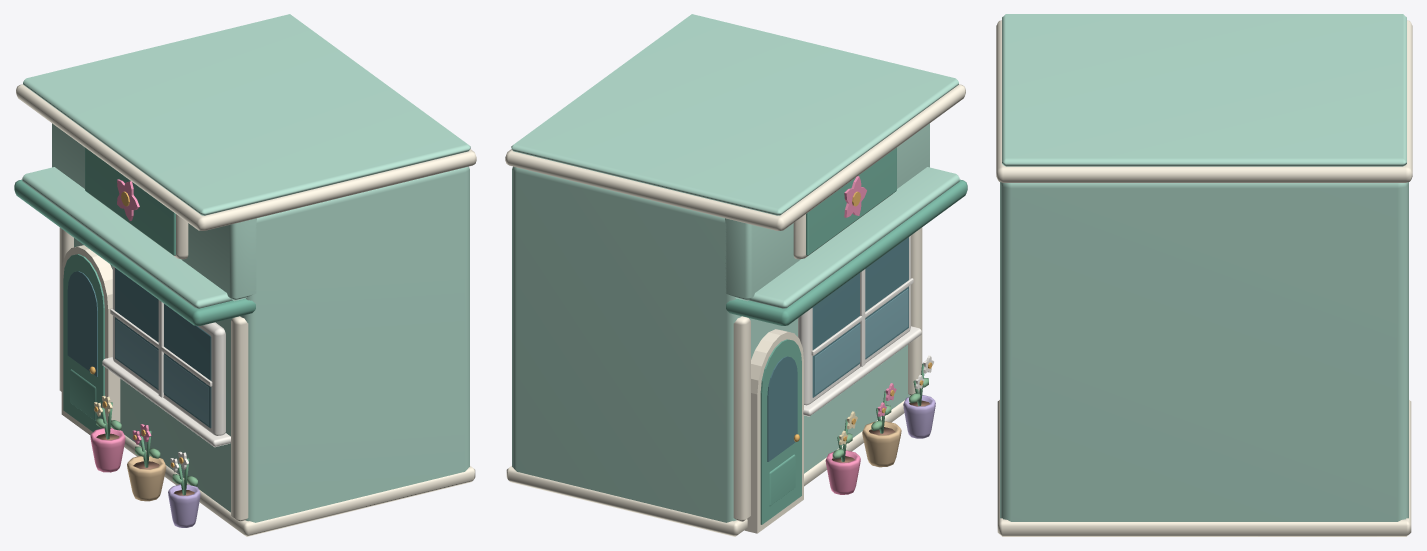
Rendered from town_flower.glb.
The picture shows the model from 3 angles, left to right: view 1: azimuth 30°, elevation 25°; view 2: azimuth 150°, elevation 25°; view 3: azimuth 270°, elevation 25°; orthographic projection. The views are drawn at different scales.
Parts seen in each view (by area): view 1: Shell, Roof, Facade, Canopy, Sign, FlowerPot_2, FlowerPot_1, FlowerPot_3; view 2: Shell, Roof, Facade, Canopy, Sign, FlowerPot_2, FlowerPot_1, FlowerPot_3; view 3: Shell, Roof.
Boxes of the visible parts, left/top/right/bottom form: Shell: left=52, top=123, right=475, bottom=536; Roof: left=16, top=14, right=476, bottom=230; Facade: left=59, top=227, right=248, bottom=521; Canopy: left=14, top=167, right=255, bottom=325; Sign: left=85, top=147, right=188, bottom=259; FlowerPot_2: left=127, top=424, right=166, bottom=501; FlowerPot_1: left=90, top=396, right=125, bottom=472; FlowerPot_3: left=168, top=451, right=200, bottom=527; Shell: left=506, top=123, right=929, bottom=536; Roof: left=505, top=14, right=965, bottom=230; Facade: left=733, top=227, right=922, bottom=533; Canopy: left=726, top=167, right=967, bottom=325; Sign: left=793, top=147, right=896, bottom=259; FlowerPot_2: left=862, top=383, right=901, bottom=467; FlowerPot_1: left=825, top=411, right=860, bottom=494; FlowerPot_3: left=903, top=355, right=935, bottom=438; Shell: left=997, top=182, right=1411, bottom=536; Roof: left=996, top=14, right=1412, bottom=182.
Bounding box in the file's own units: 3.5 × 4 × 4.
Materials: 14 (14 with a texture image).
